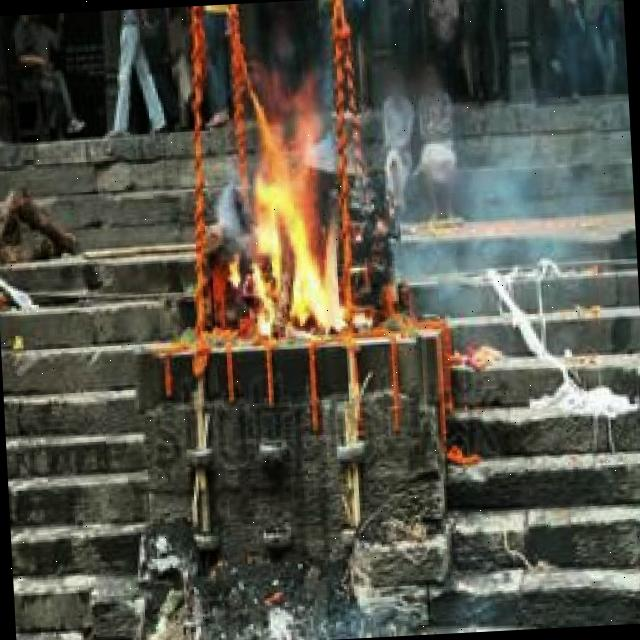fire: (233, 66, 364, 352)
